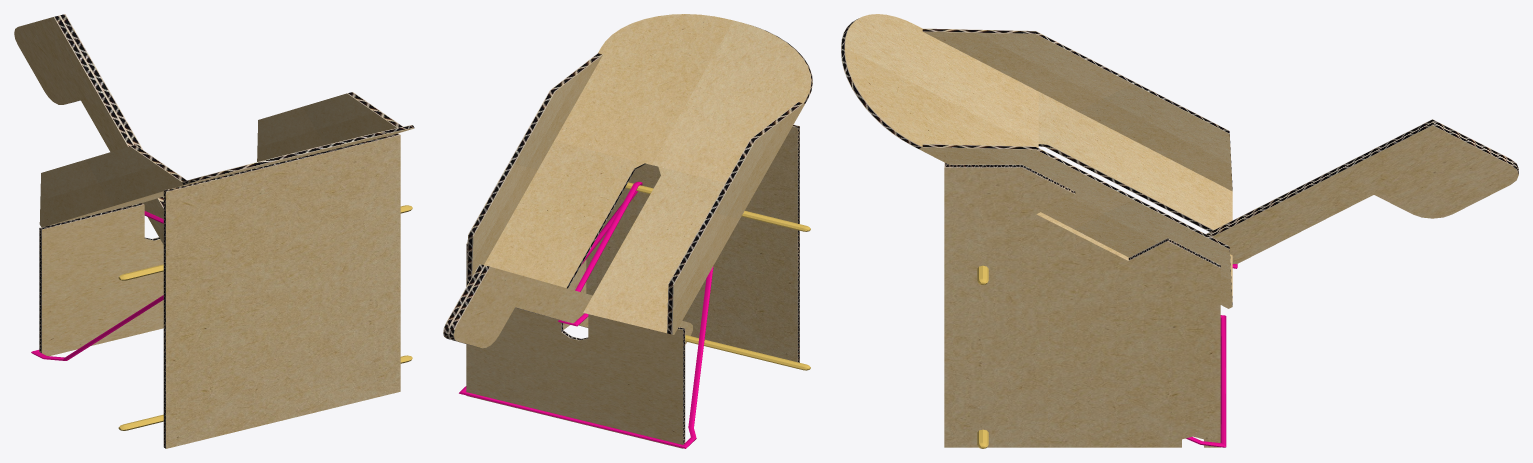
Rendered from catapult.fbx.
The picture shows the model from 3 angles, left to right: view 1: azimuth 30°, elevation 25°; view 2: azimuth 150°, elevation 25°; view 3: azimuth 270°, elevation 25°; orthographic projection. The views are drawn at different scales.
Visible parts, largest first — view 1: Box, Top, Boo, Elastic, Toothpick_1, Toothpick_2; view 2: Top, Box, Boo, Elastic, Toothpick_2, Toothpick_1; view 3: Box, Top, Boo, Elastic.
Part boxes in pixels (bbox=[...]): Box: bbox=[39, 133, 400, 448]; Top: bbox=[39, 92, 414, 227]; Boo: bbox=[14, 14, 163, 244]; Elastic: bbox=[31, 211, 163, 360]; Toothpick_1: bbox=[118, 205, 412, 280]; Toothpick_2: bbox=[118, 355, 412, 430]; Top: bbox=[466, 14, 812, 334]; Box: bbox=[466, 124, 799, 448]; Boo: bbox=[443, 264, 692, 348]; Elastic: bbox=[459, 181, 713, 448]; Toothpick_2: bbox=[685, 335, 810, 370]; Toothpick_1: bbox=[625, 182, 810, 231]; Box: bbox=[944, 162, 1220, 447]; Top: bbox=[841, 14, 1232, 308]; Boo: bbox=[1206, 119, 1518, 263]; Elastic: bbox=[1186, 264, 1237, 447].
Bounding box in the file's own units: 66.83 × 67.34 × 123.
